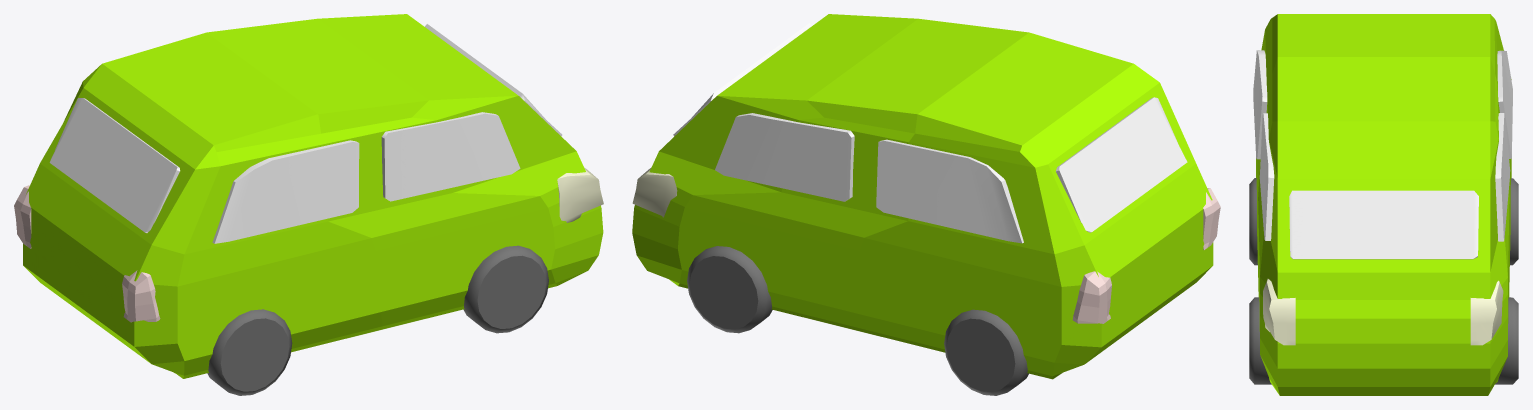
Rendered from CarroVerde.fbx.
The picture shows the model from 3 angles, left to right: view 1: azimuth 30°, elevation 25°; view 2: azimuth 150°, elevation 25°; view 3: azimuth 270°, elevation 25°; orthographic projection. The views are drawn at different scales.
Visible parts, largest first — view 1: pCube1, pCube7, pCube10, pCube8, pCylinder1, pCylinder2, pCube11, pCube9, pCube6; view 2: pCube1, pCube4, pCube10, pCube12, pCylinder3, pCylinder4, pCube11, pCube9, pCube6; view 3: pCube1, pCube6, pCube9, pCube12, pCube8, pCube4, pCube7, pCylinder1, pCylinder3, pCylinder4, pCylinder2.
Boxes of the visible parts, x1,y1,x2,y2 form: pCube1: [23, 14, 603, 378]; pCube7: [212, 140, 359, 243]; pCube10: [49, 98, 180, 232]; pCube8: [381, 112, 520, 201]; pCylinder1: [463, 245, 548, 333]; pCylinder2: [207, 309, 292, 395]; pCube11: [14, 185, 160, 322]; pCube9: [557, 168, 603, 222]; pCube6: [425, 24, 562, 136]; pCube1: [632, 14, 1213, 379]; pCube4: [876, 139, 1023, 243]; pCube10: [1056, 97, 1187, 232]; pCube12: [715, 113, 854, 201]; pCylinder3: [687, 246, 772, 333]; pCylinder4: [944, 309, 1028, 395]; pCube11: [1072, 188, 1220, 323]; pCube9: [632, 168, 677, 217]; pCube6: [673, 23, 811, 136]; pCube1: [1256, 14, 1511, 395]; pCube6: [1289, 190, 1478, 259]; pCube9: [1263, 279, 1503, 345]; pCube12: [1495, 113, 1510, 241]; pCube8: [1259, 113, 1274, 240]; pCube4: [1497, 50, 1512, 158]; pCube7: [1253, 50, 1267, 159]; pCylinder1: [1249, 297, 1271, 384]; pCylinder3: [1495, 297, 1518, 384]; pCylinder4: [1510, 178, 1518, 265]; pCylinder2: [1249, 178, 1257, 265].
Size of the model in its own units: 21.46 by 10.94 by 11.09.
